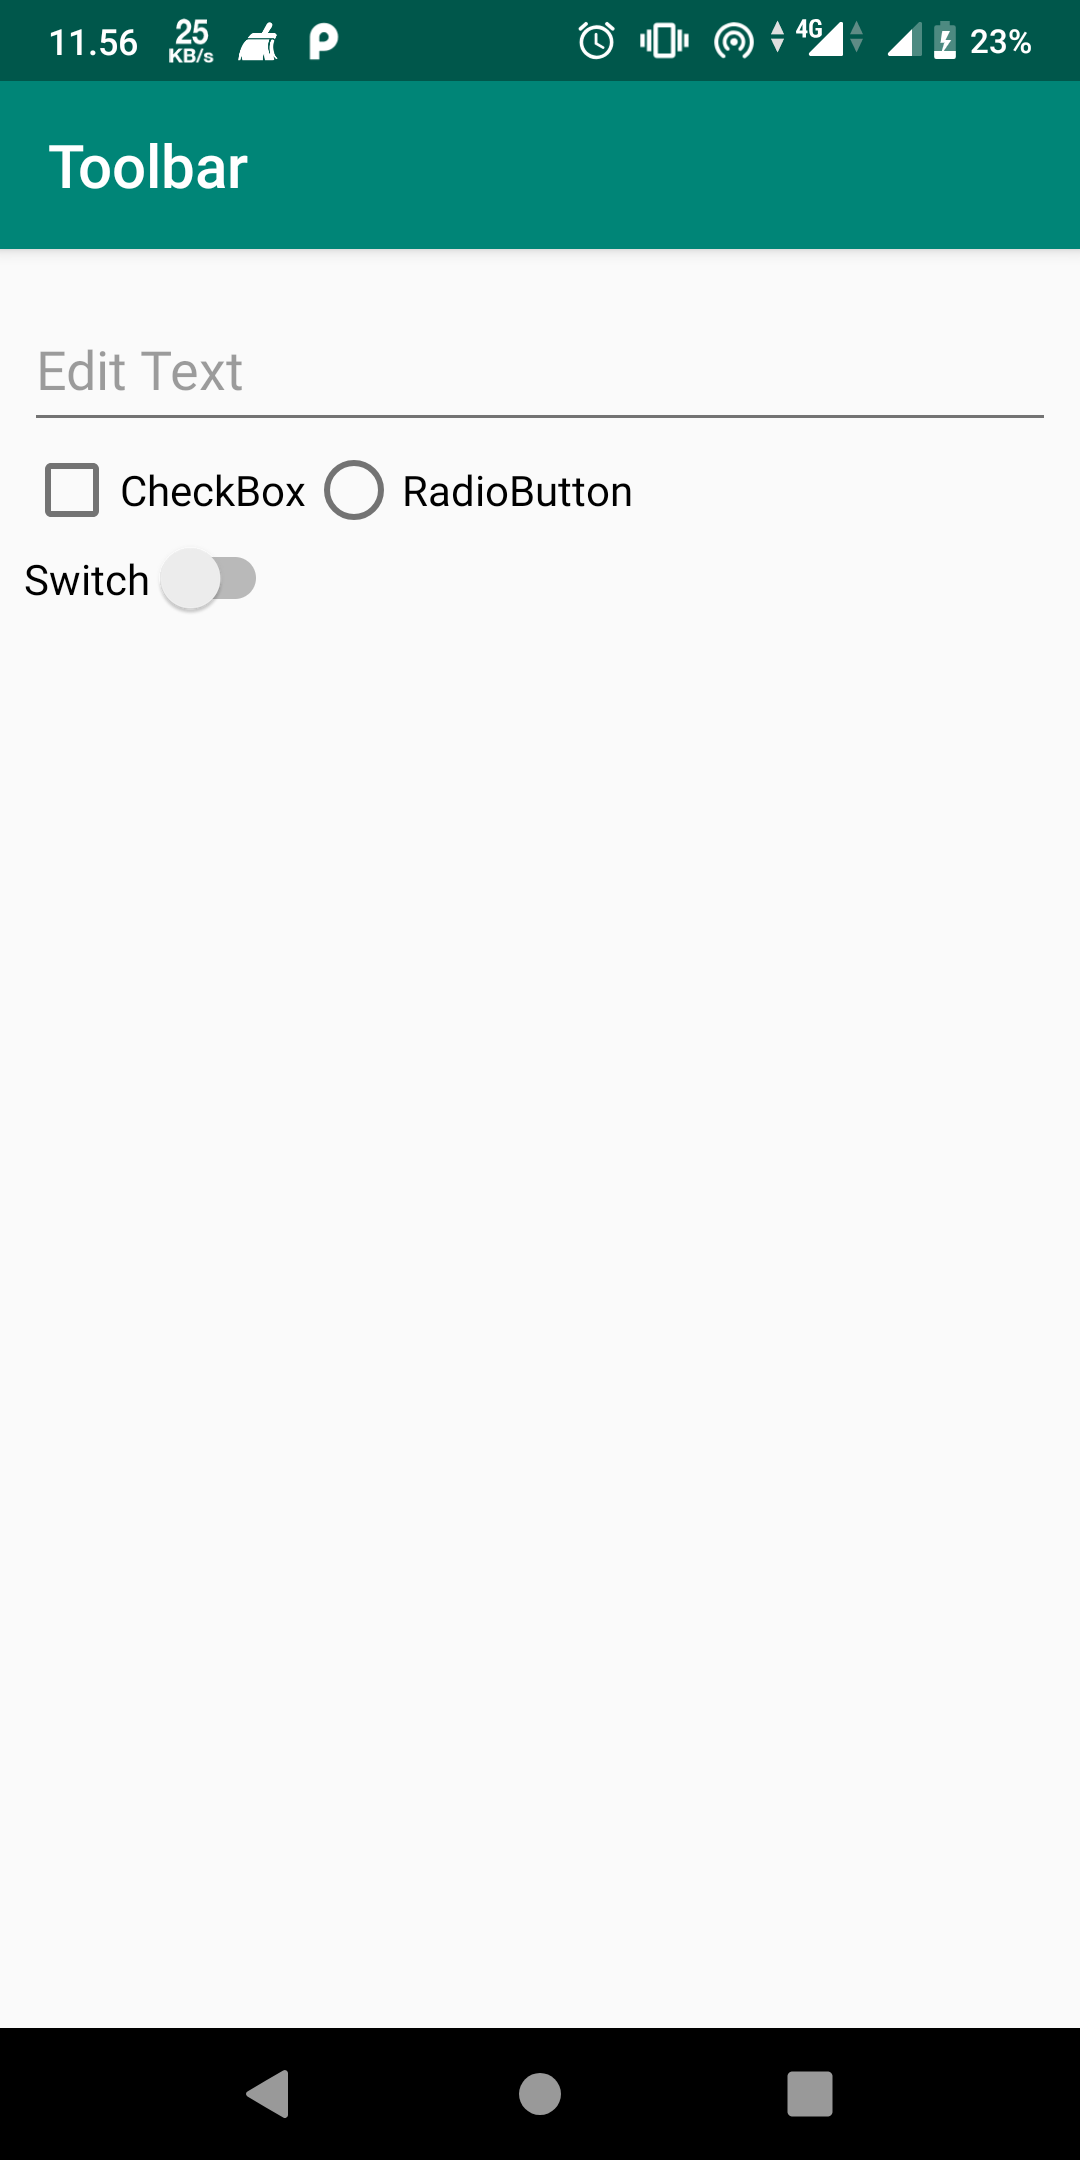checkBox: (39, 457, 309, 522)
editText: (22, 331, 1063, 438)
radioButton: (320, 457, 641, 525)
switch: (19, 557, 287, 619)
toolbar: (3, 80, 1080, 244)
